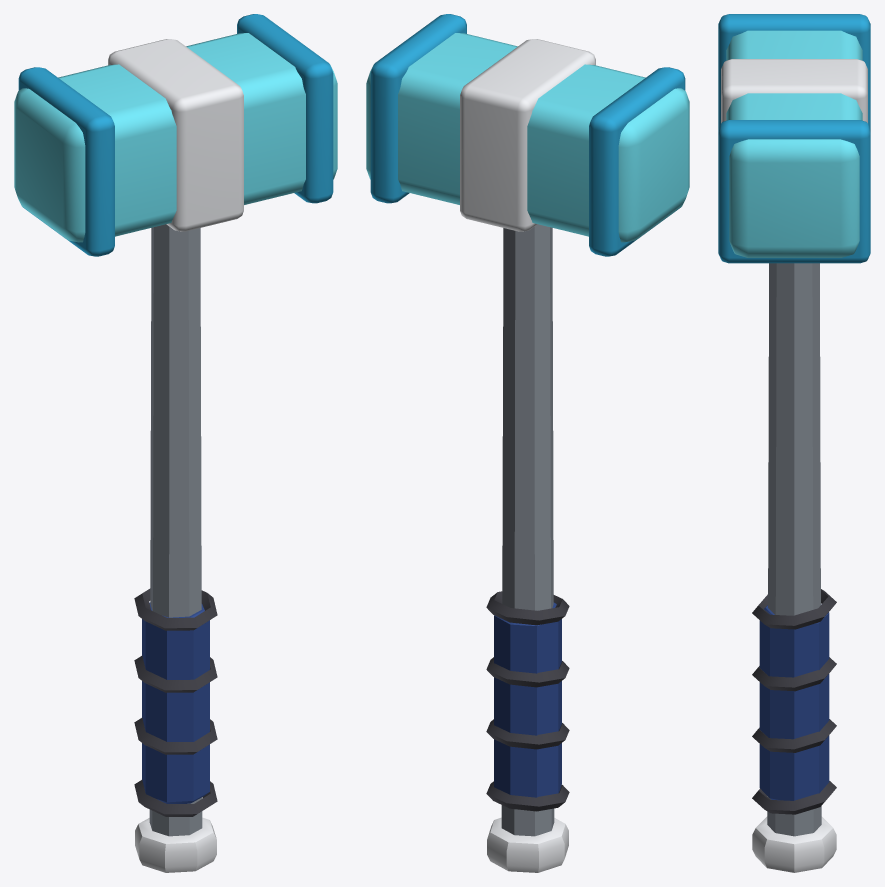
Rendered from DiamondHammer.fbx.
3 views of the same model, side by side, from view 1: azimuth 30°, elevation 25°; view 2: azimuth 150°, elevation 25°; view 3: azimuth 270°, elevation 25° (orthographic).
Parts seen in each view (by area): view 1: DiamondHammer; view 2: DiamondHammer; view 3: DiamondHammer.
Part boxes in pixels (bbox=[...]): DiamondHammer: bbox=[14, 14, 337, 872]; DiamondHammer: bbox=[366, 14, 689, 872]; DiamondHammer: bbox=[718, 14, 870, 872].
Size of the model in its own units: 1.15 by 3.2 by 0.56.
Materials: 1 (1 with a texture image).
